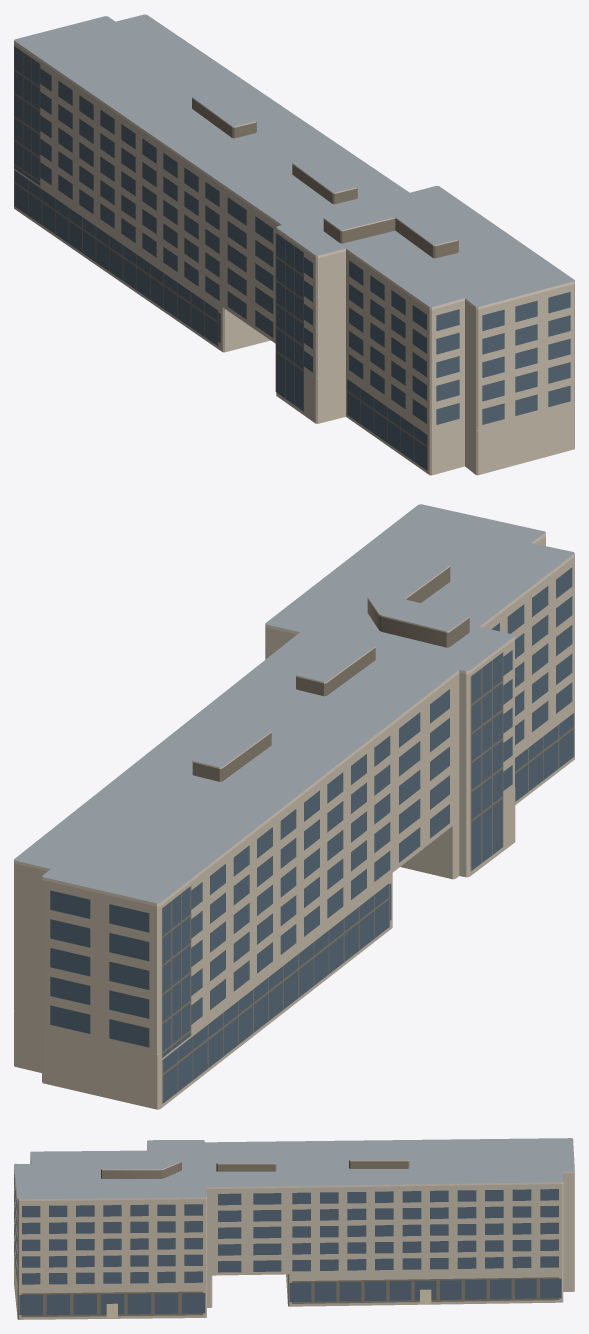
The model's file is dc-au-constitution-hall.glb.
3 views of the same model, one above another, from view 1: azimuth 30°, elevation 25°; view 2: azimuth 150°, elevation 25°; view 3: azimuth 270°, elevation 25° (orthographic). The views are drawn at different scales.
Visible parts, largest first — view 1: Constitution Hall; view 2: Constitution Hall; view 3: Constitution Hall.
Part boxes in pixels (x1,y1,x2,y2): Constitution Hall: [14, 14, 574, 475]; Constitution Hall: [14, 504, 574, 1109]; Constitution Hall: [14, 1138, 574, 1319].
Bounding box in the file's own units: 21.69 × 21.37 × 83.51.
